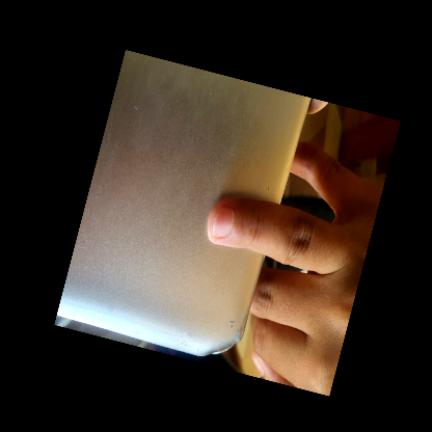Nail: (213, 207, 234, 237)
